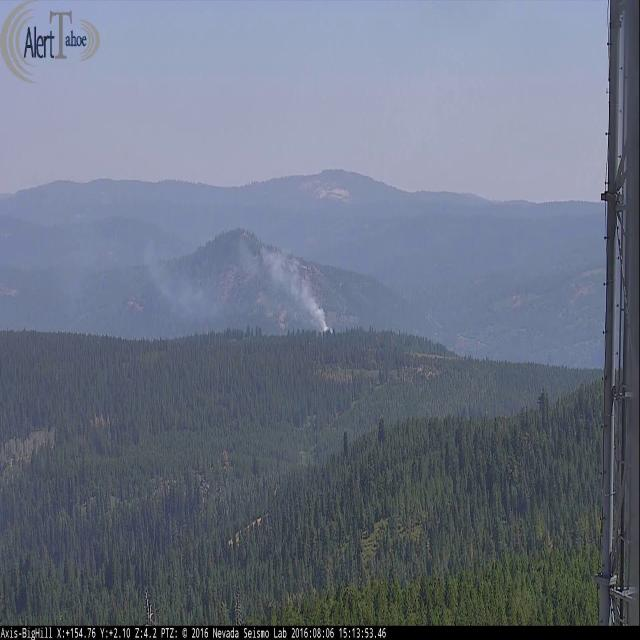smoke: (238, 242, 338, 341)
